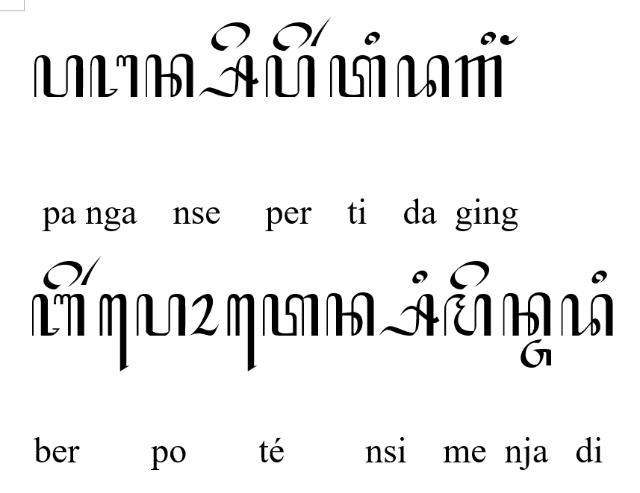_j: (520, 340, 552, 368)
_r1: (310, 16, 332, 46), (80, 256, 102, 286)
_s: (198, 54, 260, 98), (380, 292, 440, 336)
b: (30, 292, 86, 338)
d: (560, 292, 614, 336), (396, 55, 449, 99)
e: (211, 20, 251, 51), (273, 22, 313, 52), (450, 261, 490, 291), (44, 260, 82, 290)
e1: (98, 294, 130, 372), (226, 293, 256, 373)
g: (454, 54, 502, 98)
i: (590, 270, 608, 284), (364, 31, 380, 45), (480, 31, 496, 45), (412, 270, 428, 284)
m: (443, 293, 491, 337)
n: (145, 53, 195, 98), (325, 292, 375, 336), (502, 292, 550, 336)
ng: (499, 35, 519, 45)
nga: (90, 54, 138, 98)
o: (188, 293, 220, 337)
p: (136, 292, 187, 338), (34, 54, 84, 98), (265, 54, 315, 98)
t: (329, 54, 386, 98), (262, 293, 318, 336)
